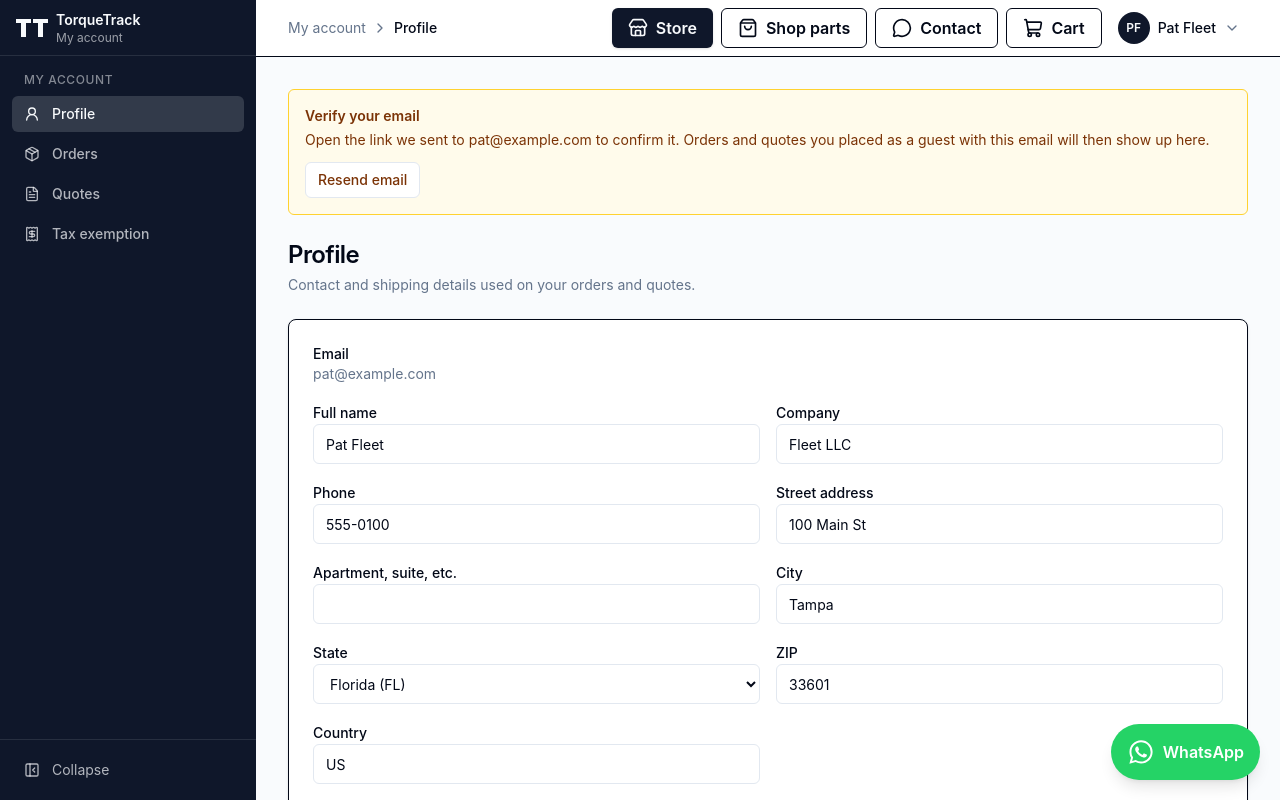
Test: PortalPage › shows the API error when resending fails
Click the button "Resend email": (363, 180) top-left (305, 162), bottom-right (420, 198)
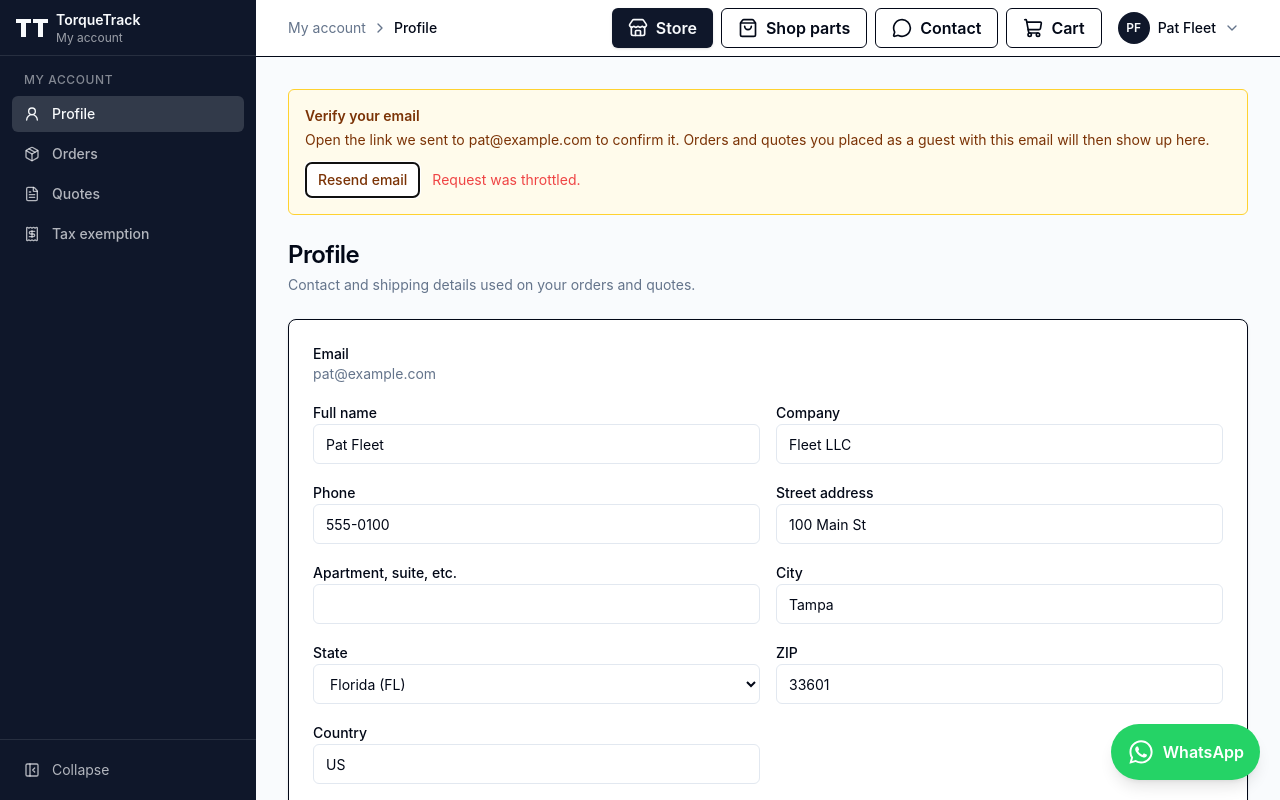
expect the text "Request was throttled." is shown: met, box top-left (432, 170), bottom-right (580, 190)
